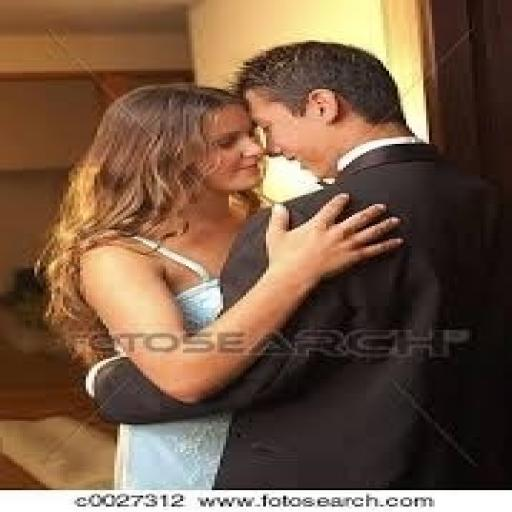hugging: (34, 38, 504, 488)
